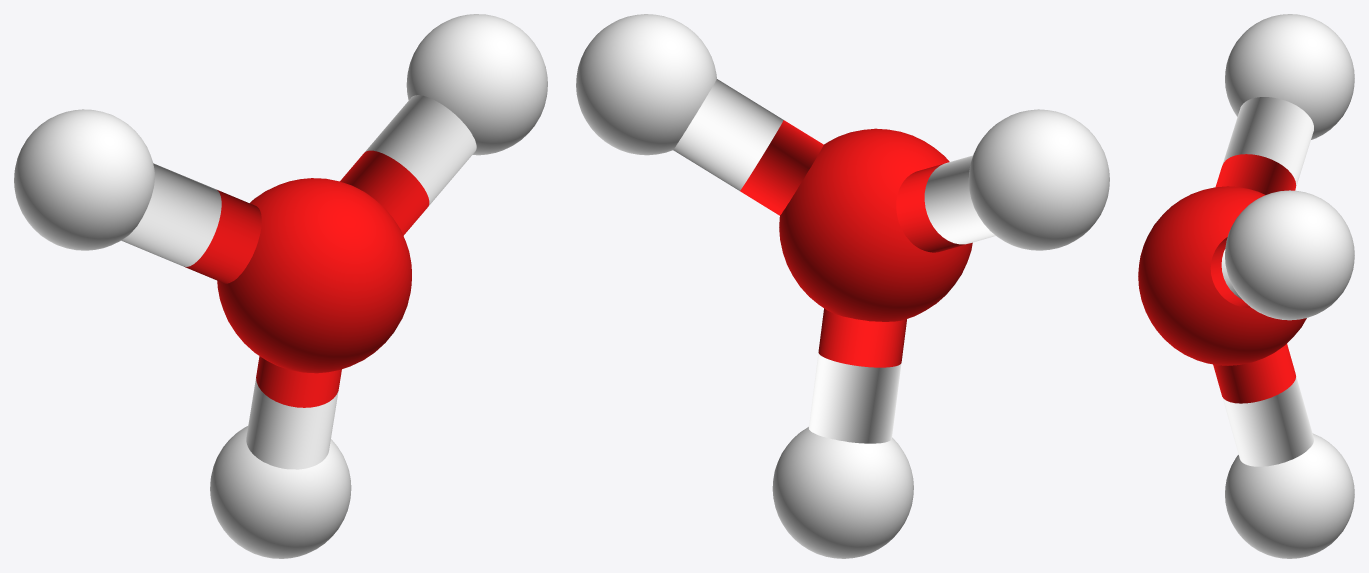
Rendered from hydronium.obj.
3 views of the same model, side by side, from view 1: azimuth 30°, elevation 25°; view 2: azimuth 150°, elevation 25°; view 3: azimuth 270°, elevation 25° (orthographic). The views are drawn at different scales.
Parts seen in each view (by area): view 1: O1_Atom, H4_Atom, H3_Atom, H2_Atom, Cylinder4, Cylinder2, Cylinder6, Cylinder1, Cylinder3, Cylinder5; view 2: O1_Atom, H4_Atom, H3_Atom, H2_Atom, Cylinder4, Cylinder6, Cylinder3, Cylinder5, Cylinder2, Cylinder1; view 3: O1_Atom, H3_Atom, H2_Atom, H4_Atom, Cylinder6, Cylinder2, Cylinder5, Cylinder1, Cylinder3.
Part boxes in pixels (left/top/right/bottom): O1_Atom: left=217, top=178, right=411, bottom=373; H4_Atom: left=14, top=109, right=154, bottom=250; H3_Atom: left=406, top=14, right=547, bottom=155; H2_Atom: left=210, top=426, right=351, bottom=558; Cylinder4: left=364, top=95, right=476, bottom=206; Cylinder2: left=121, top=163, right=221, bottom=266; Cylinder6: left=246, top=378, right=338, bottom=469; Cylinder1: left=184, top=189, right=261, bottom=283; Cylinder3: left=340, top=150, right=429, bottom=235; Cylinder5: left=256, top=356, right=341, bottom=407; O1_Atom: left=779, top=128, right=972, bottom=321; H4_Atom: left=968, top=109, right=1109, bottom=250; H3_Atom: left=576, top=14, right=716, bottom=155; H2_Atom: left=772, top=427, right=913, bottom=558; Cylinder4: left=673, top=79, right=783, bottom=190; Cylinder6: left=809, top=352, right=901, bottom=443; Cylinder3: left=740, top=120, right=823, bottom=215; Cylinder5: left=818, top=308, right=906, bottom=367; Cylinder2: left=924, top=155, right=995, bottom=244; Cylinder1: left=896, top=164, right=966, bottom=252; O1_Atom: left=1138, top=186, right=1306, bottom=365; H3_Atom: left=1225, top=190, right=1354, bottom=320; H2_Atom: left=1225, top=433, right=1354, bottom=558; H4_Atom: left=1225, top=14, right=1354, bottom=139; Cylinder6: left=1222, top=376, right=1313, bottom=466; Cylinder2: left=1222, top=97, right=1313, bottom=188; Cylinder5: left=1213, top=344, right=1295, bottom=403; Cylinder1: left=1215, top=154, right=1296, bottom=194; Cylinder3: left=1210, top=237, right=1250, bottom=307.
Size of the model in its own units: 2.13 by 1.91 by 0.8436.
